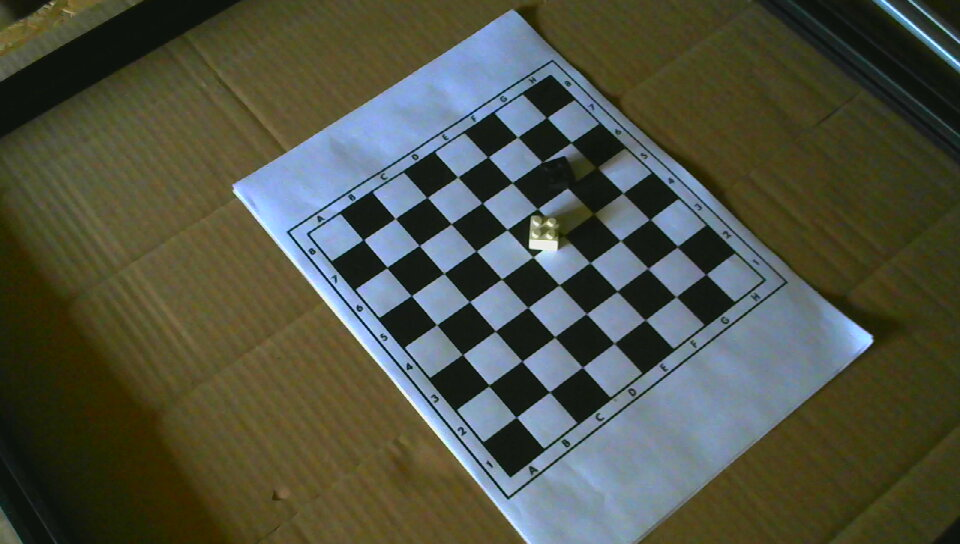bp: (539, 156, 575, 193)
wp: (528, 213, 561, 252)
